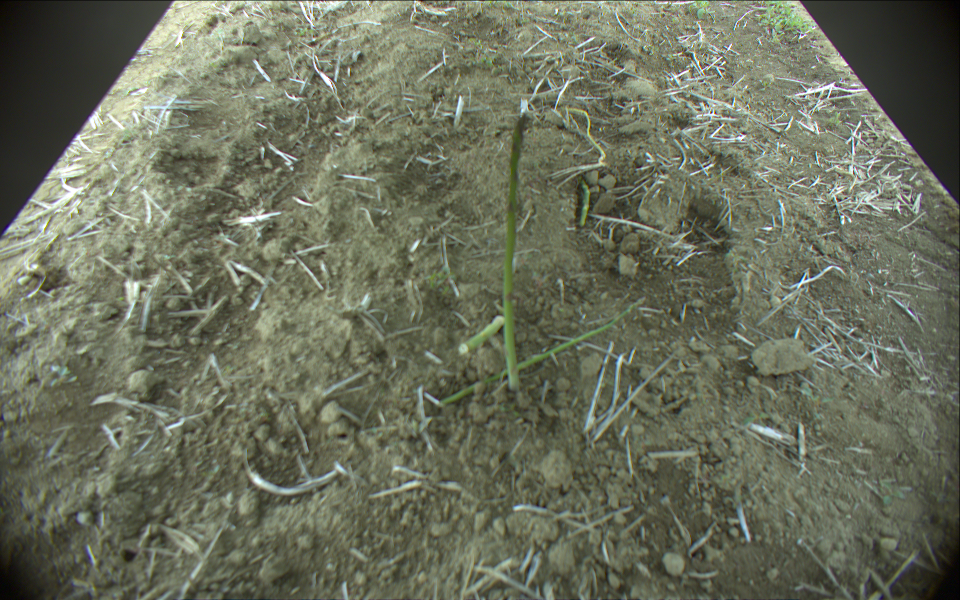aspa: (436, 297, 649, 409), (504, 114, 525, 393), (563, 105, 607, 164), (458, 313, 504, 356), (577, 180, 591, 227)
